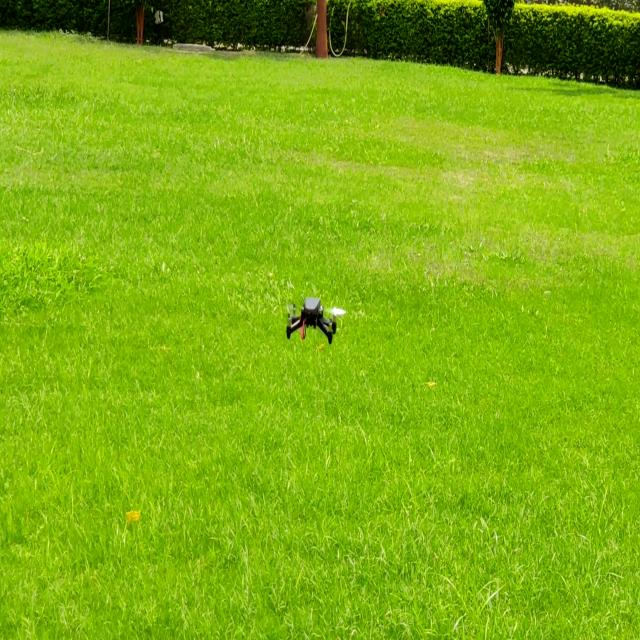drone: (274, 290, 362, 359)
